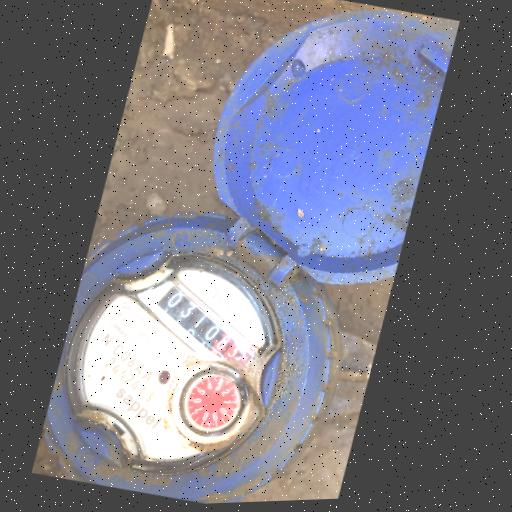0: (157, 284, 189, 319), (195, 319, 223, 352)
1: (181, 307, 213, 342)
3: (170, 296, 201, 330), (217, 338, 246, 368)
8: (206, 328, 236, 360)
border_water_meter_number: (115, 262, 276, 391)
